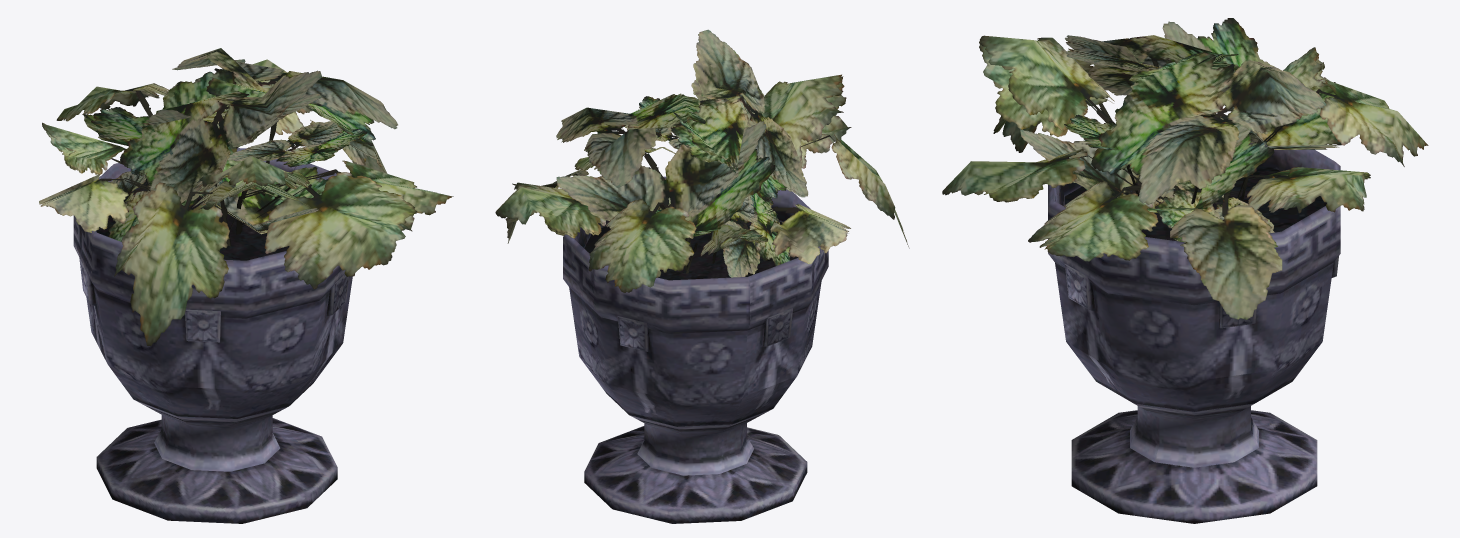
The model's file is pot_plant_small04.dae.
3 views of the same model, side by side, from view 1: azimuth 30°, elevation 25°; view 2: azimuth 150°, elevation 25°; view 3: azimuth 270°, elevation 25° (orthographic). The views are drawn at different scales.
Parts seen in each view (by area): view 1: Cylinder01; view 2: Cylinder01; view 3: Cylinder01.
Part boxes in pixels (x1,y1,x2,y2): Cylinder01: (39, 48, 453, 523); Cylinder01: (495, 29, 909, 523); Cylinder01: (942, 18, 1428, 523).
Bounding box in the file's own units: 0.5218 × 0.5728 × 0.5825.
